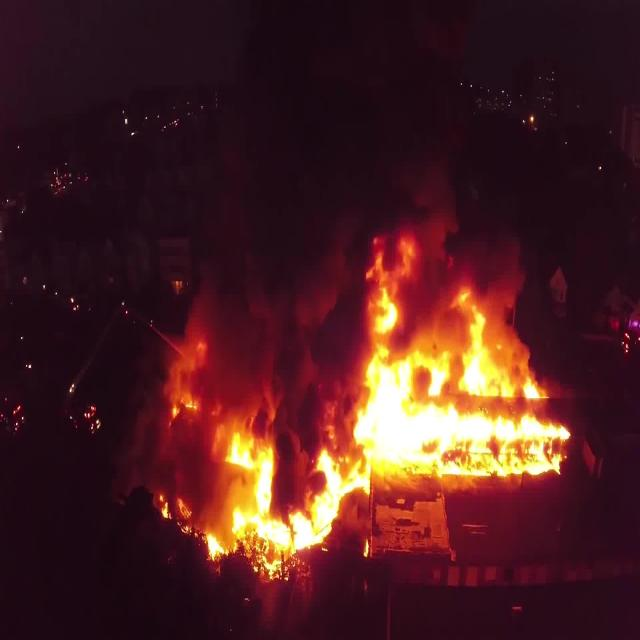Fire: (159, 220, 574, 578)
Smoke: (161, 6, 568, 536)
